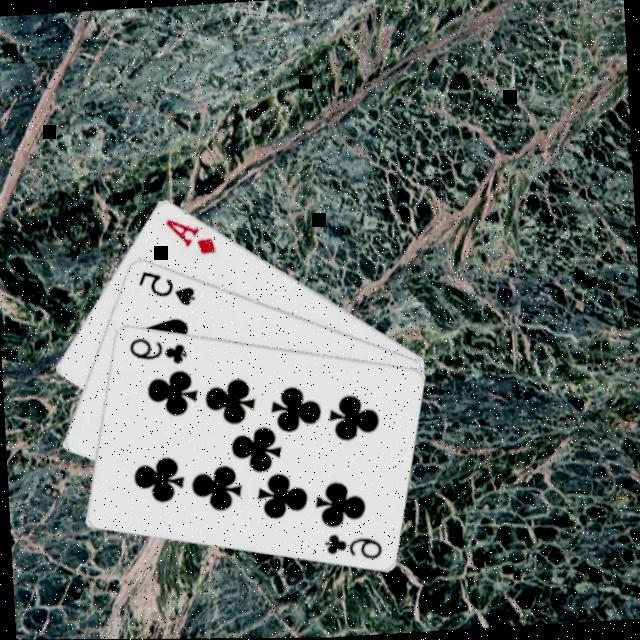5S: (134, 266, 198, 314)
9C: (124, 333, 190, 372), (319, 530, 385, 567)
AD: (161, 214, 218, 262)
